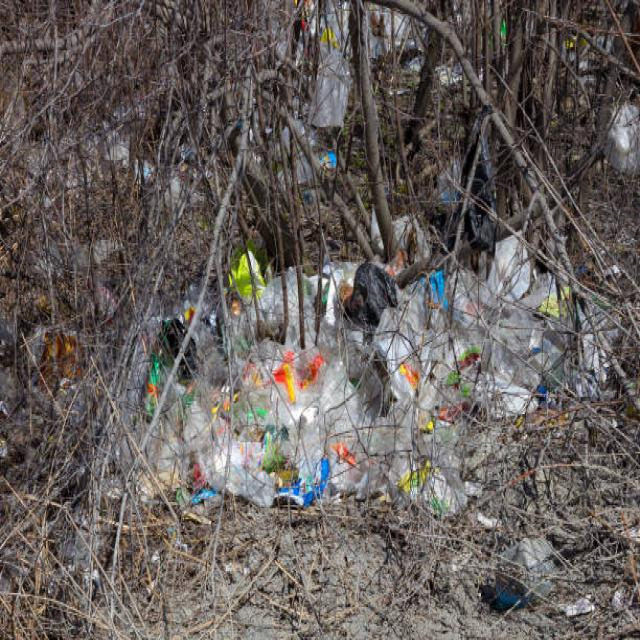plastic: (161, 221, 555, 504)
